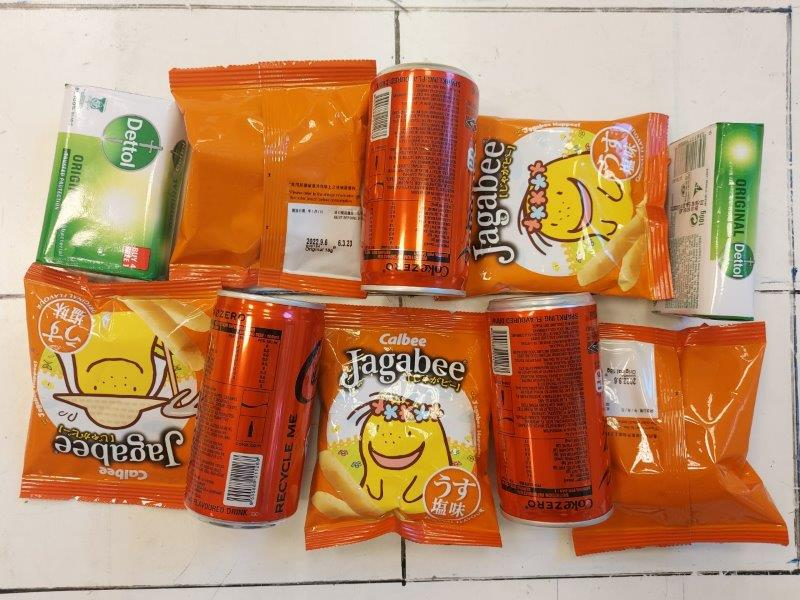Coke: (186, 291, 324, 528), (487, 292, 613, 525), (358, 64, 478, 300)
Dettol: (37, 82, 188, 284), (650, 125, 763, 321)
Jagabee: (569, 323, 791, 555), (18, 262, 220, 510), (168, 61, 376, 298), (303, 304, 502, 550), (437, 114, 673, 298)
